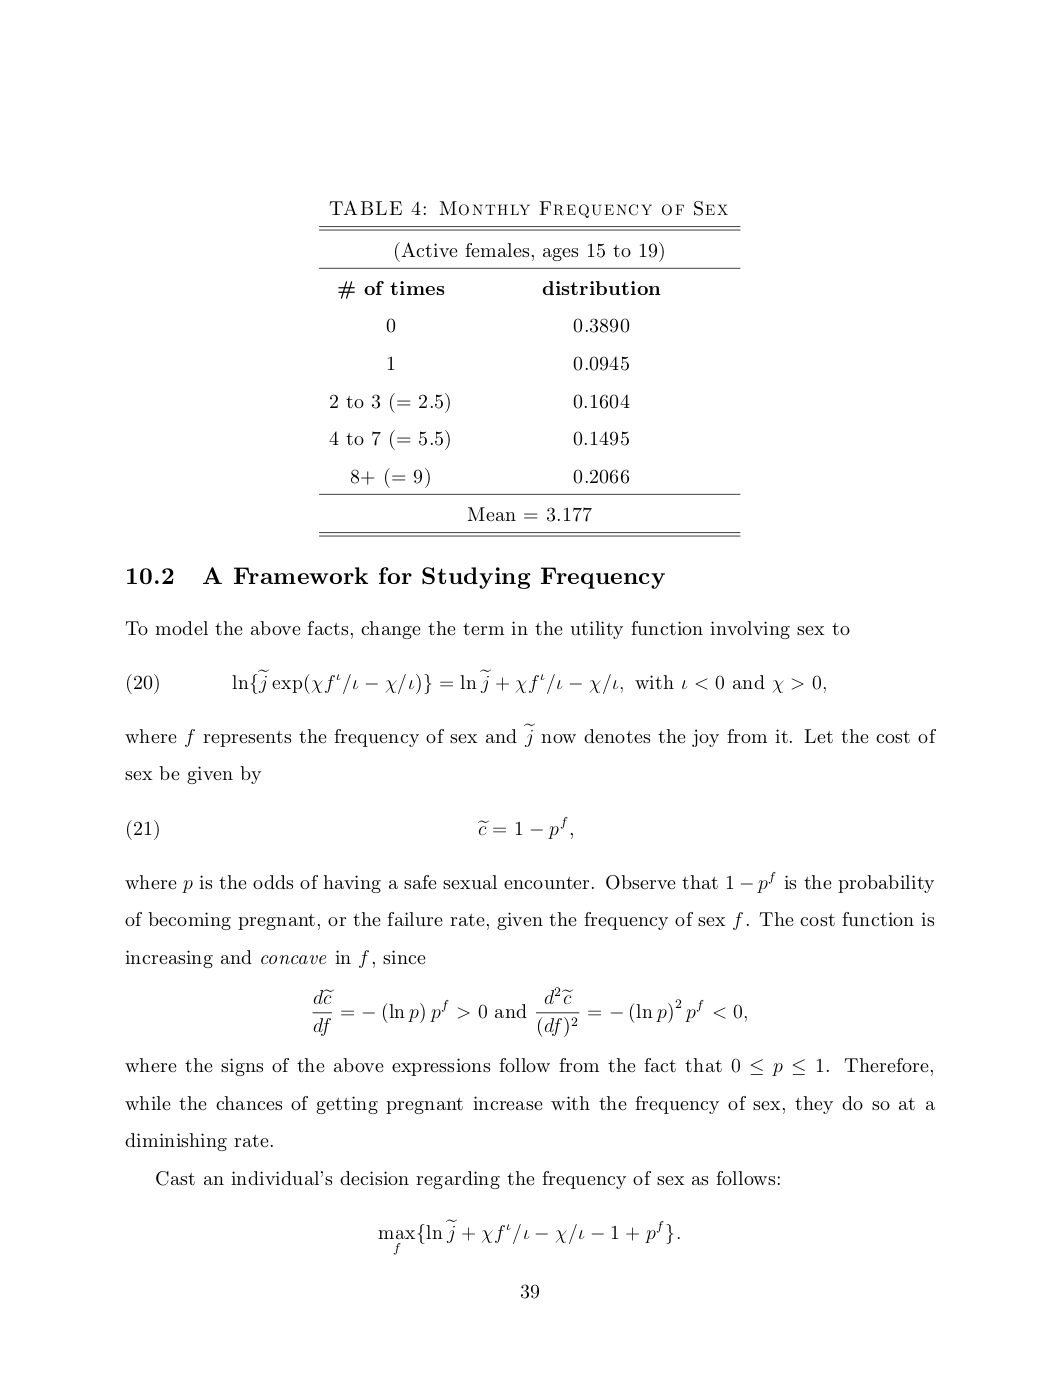Table: (319, 226, 740, 536)
formula: (312, 985, 746, 1038), (127, 668, 825, 694), (127, 815, 572, 840), (378, 1218, 679, 1255)
